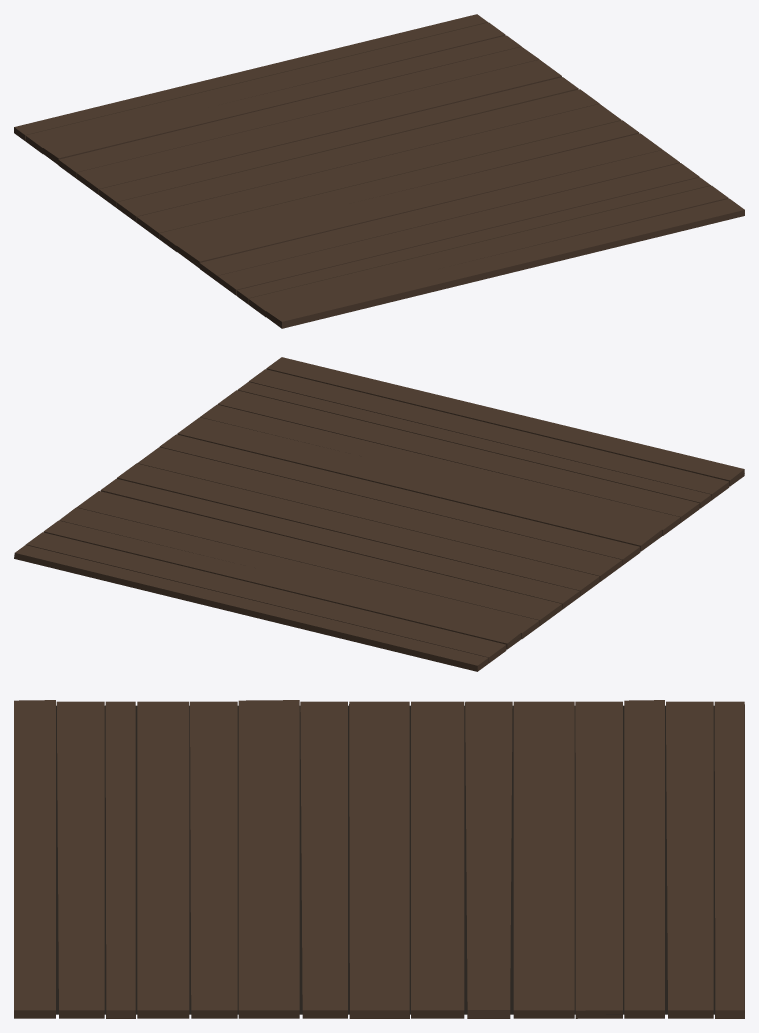
Rendered from Floor_2A_6m.fbx.
3 views of the same model, one above another, from view 1: azimuth 30°, elevation 25°; view 2: azimuth 150°, elevation 25°; view 3: azimuth 270°, elevation 25° (orthographic). The views are drawn at different scales.
Visible parts, largest first — view 1: pCube844; view 2: pCube844; view 3: pCube844.
Boxes of the visible parts, left/top/right/bottom form: pCube844: left=14, top=14, right=744, bottom=328; pCube844: left=14, top=357, right=744, bottom=671; pCube844: left=14, top=700, right=744, bottom=1018.
Size of the model in its own units: 601 by 8.62 by 600.
